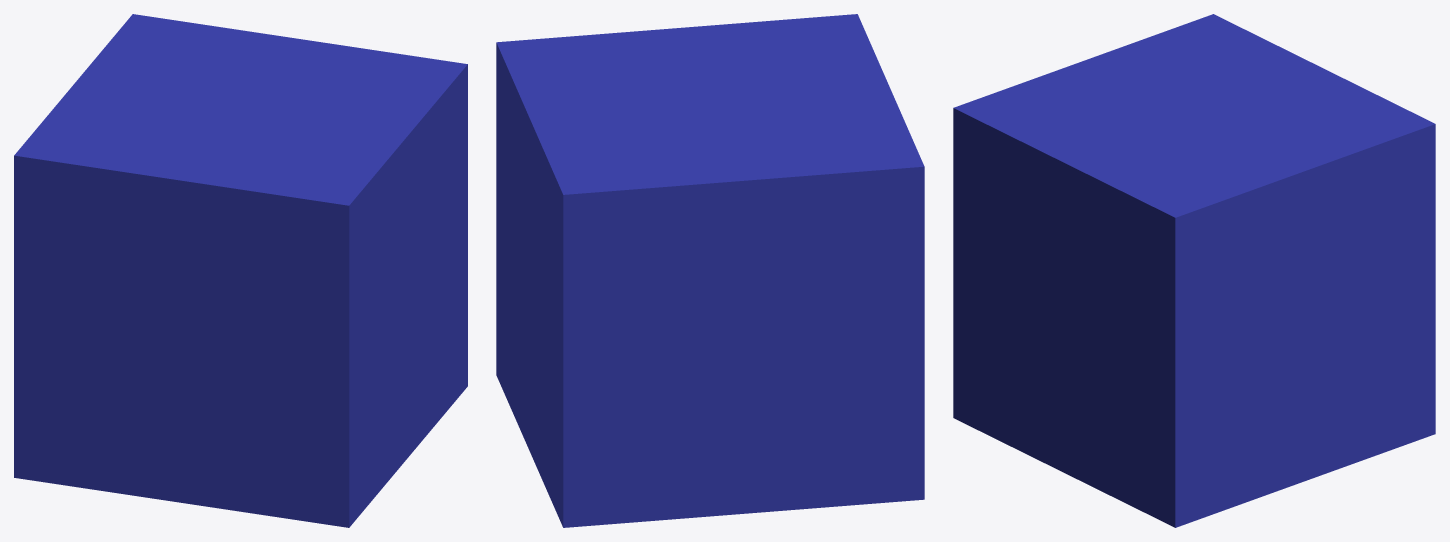
The model's file is CUBO.fbx.
3 views of the same model, side by side, from view 1: azimuth 30°, elevation 25°; view 2: azimuth 150°, elevation 25°; view 3: azimuth 270°, elevation 25° (orthographic). The views are drawn at different scales.
Parts seen in each view (by area): view 1: root; view 2: root; view 3: root.
Part boxes in pixels (x1,y1,x2,y2): root: [14, 14, 467, 527]; root: [496, 14, 924, 527]; root: [953, 14, 1435, 527].
Bounding box in the file's own units: 0.282 × 0.2 × 0.282.
